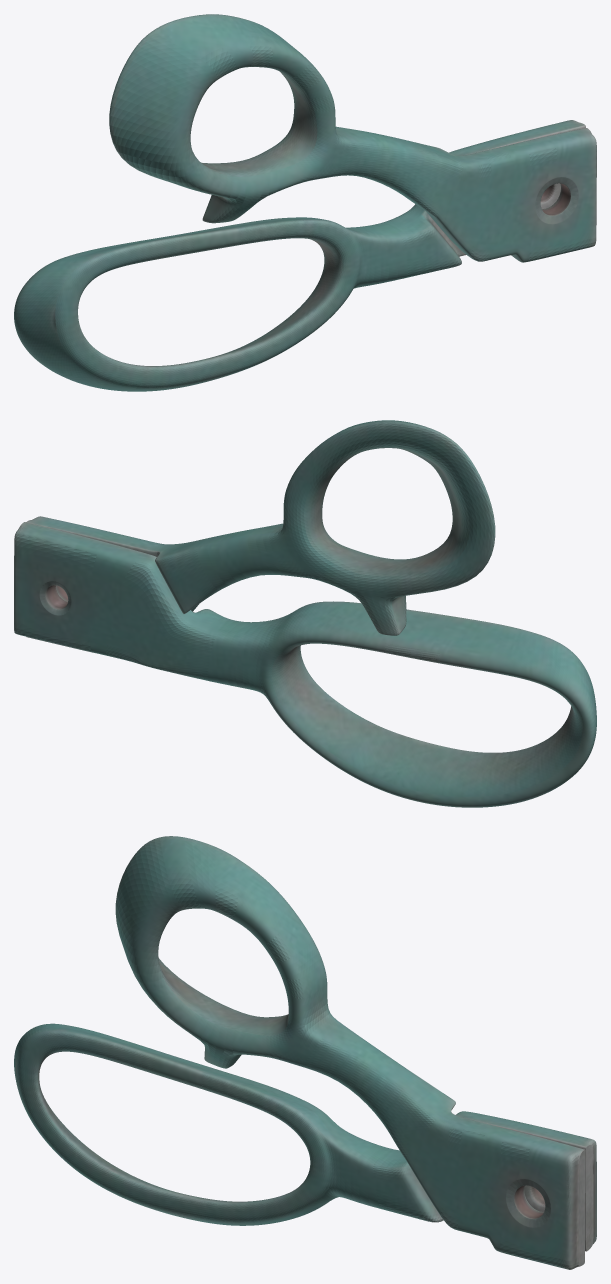
File: Scissors2Hilt.obj
The picture shows the model from 3 angles, top to bottom: view 1: azimuth 30°, elevation 25°; view 2: azimuth 150°, elevation 25°; view 3: azimuth 330°, elevation 25°; orthographic projection. The views are drawn at different scales.
Visible parts, largest first — view 1: Scissors2Hilt; view 2: Scissors2Hilt; view 3: Scissors2Hilt.
Boxes of the visible parts, <box> form: Scissors2Hilt: <box>14,14,596,391</box>; Scissors2Hilt: <box>14,420,596,807</box>; Scissors2Hilt: <box>14,836,596,1269</box>.
Size of the model in its own units: 0.1275 by 0.079 by 0.0104.
Materials: 1 (1 with a texture image).
